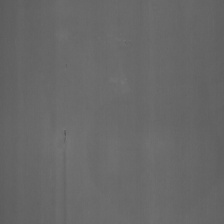inclusion: (59, 123, 69, 148)
